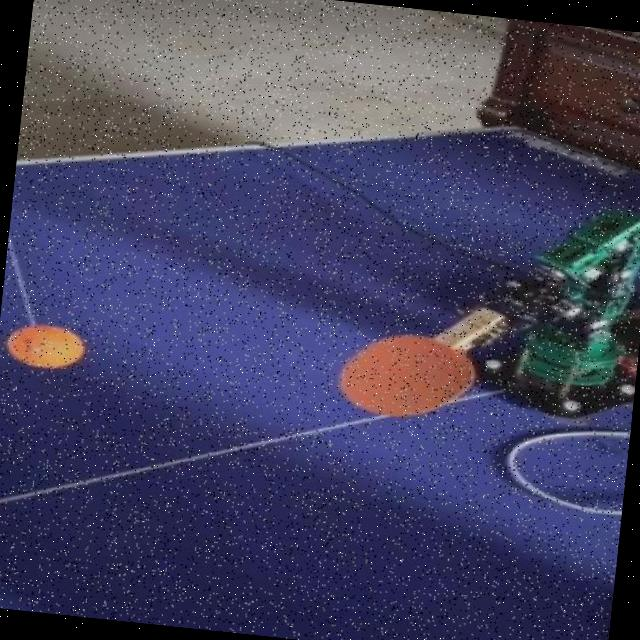ping-pong-ball: (0, 318, 84, 370)
